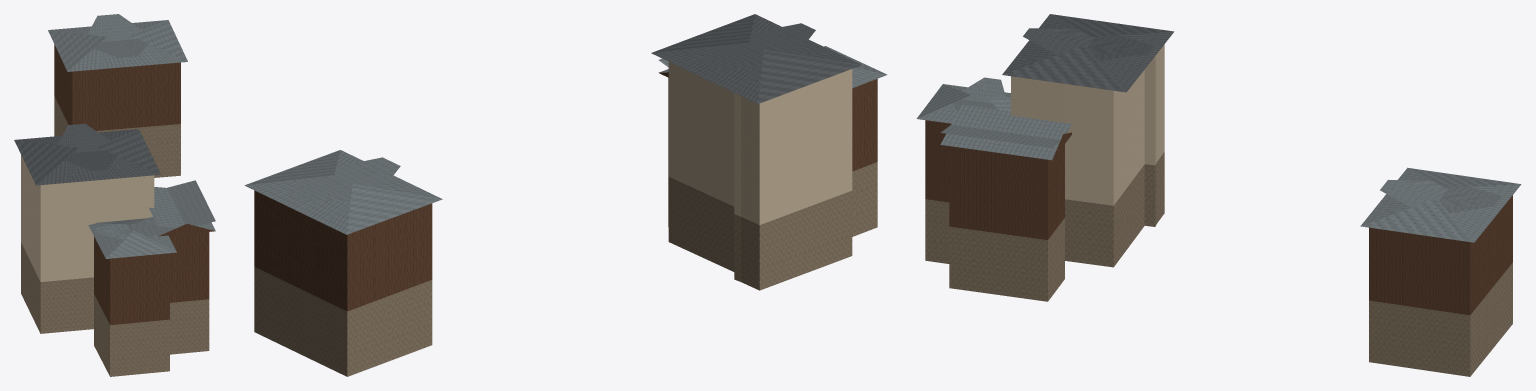
File: bld_c9_8_505.gltf
3 renders of one model, left to right at view 1: azimuth 30°, elevation 25°; view 2: azimuth 150°, elevation 25°; view 3: azimuth 270°, elevation 25°, orthographic. The views are drawn at different scales.
Parts seen in each view (by area): view 1: bld_c9_8_505; view 2: bld_c9_8_505; view 3: bld_c9_8_505.
Part boxes in pixels (x1,y1,x2,y2): bld_c9_8_505: [14, 14, 215, 376]; bld_c9_8_505: [244, 14, 887, 376]; bld_c9_8_505: [916, 14, 1521, 376].
Bounding box in the file's own units: 32.04 × 17.5 × 45.4.
6 materials, 6 textured.
